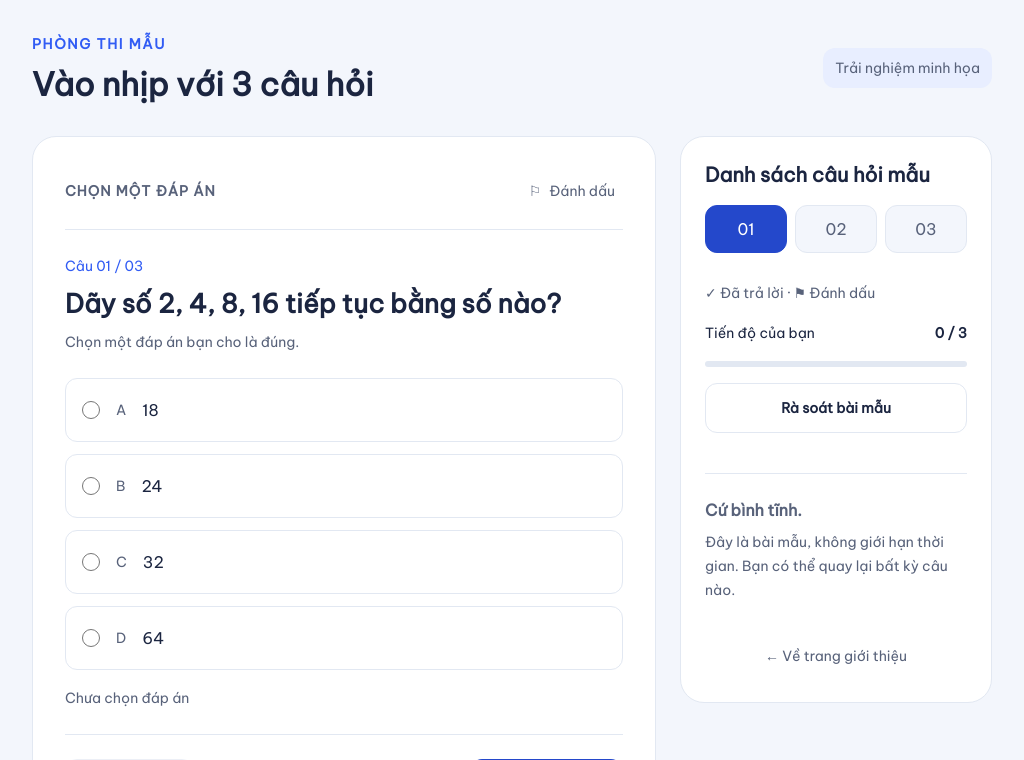
it: opens review from the first question and retains choices, marks and focus on returning
Click the radio button labelled "C 32" at (91, 562), box [82,553,100,571]
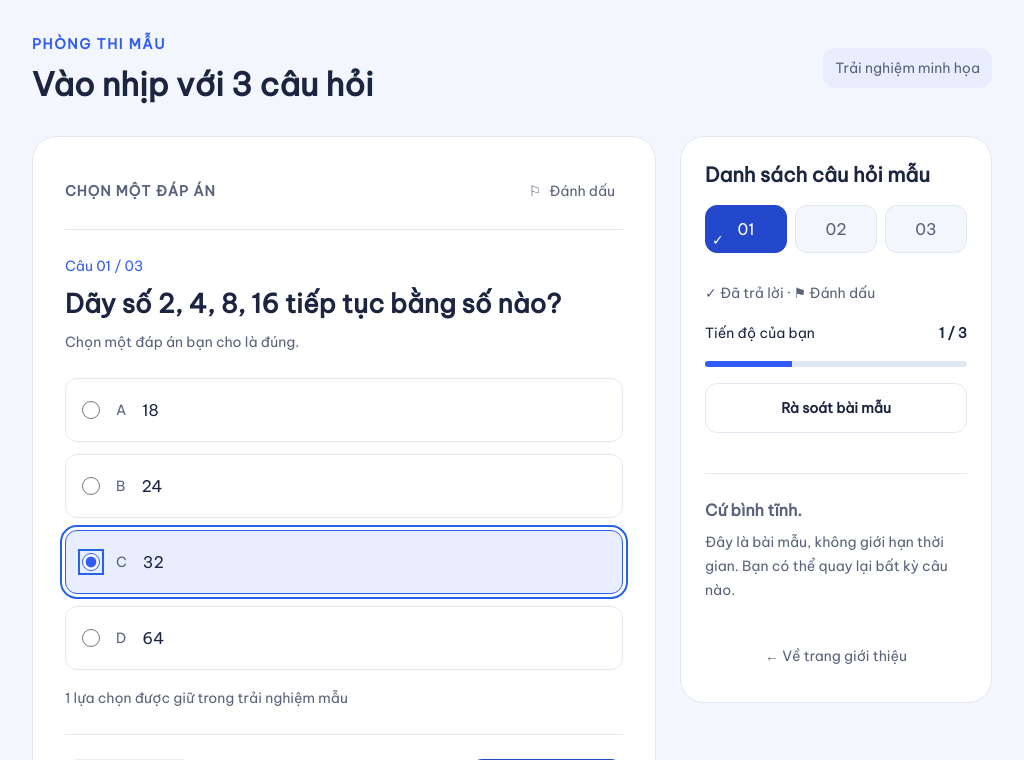
Click the button "⚐ Đánh dấu" at (572, 191), box [521,169,623,213]
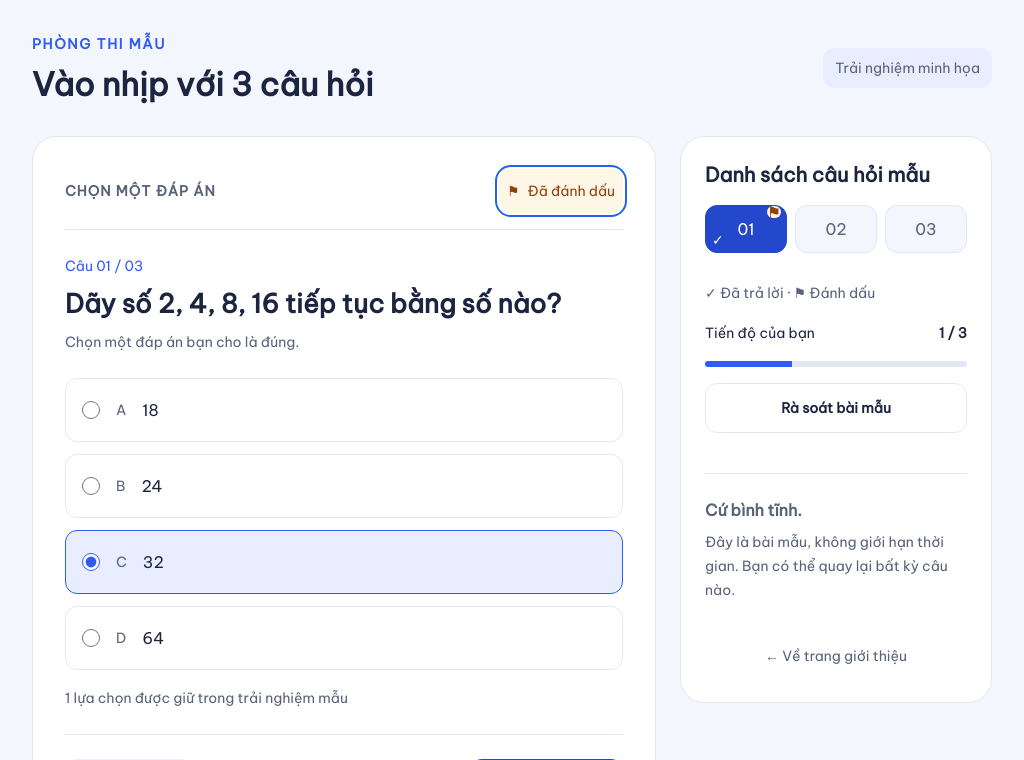
Click the button "Rà soát bài mẫu" at (836, 408), box [705,383,967,433]
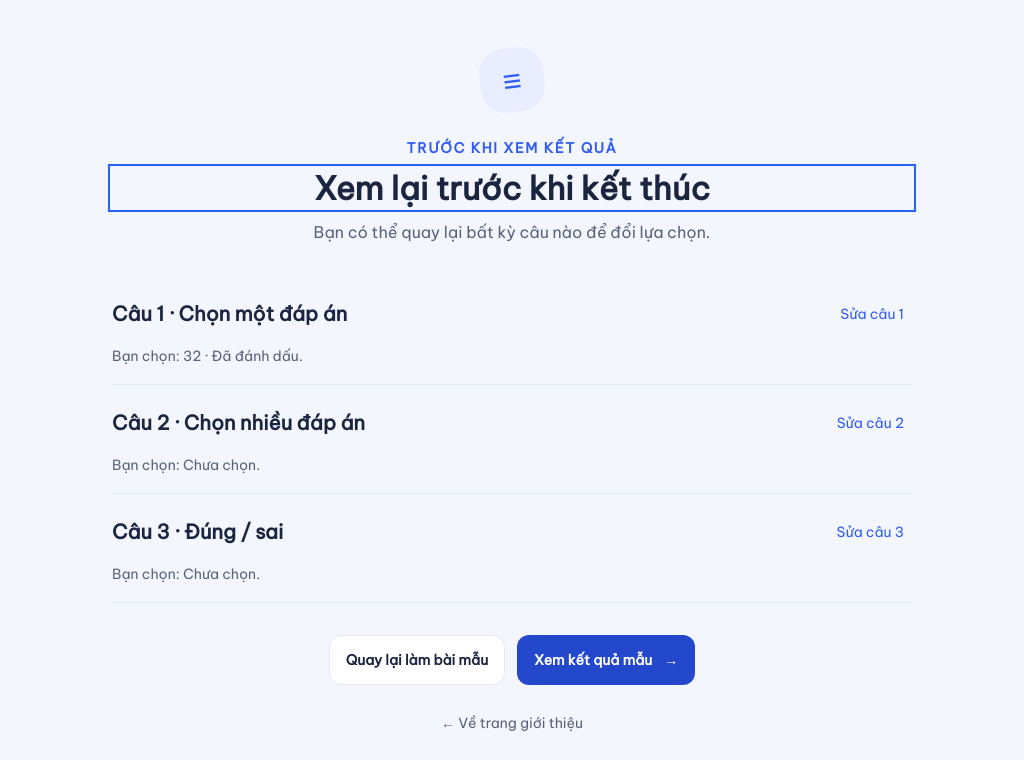
Click the button "Sửa câu 1" at (872, 314), box [832,292,912,336]
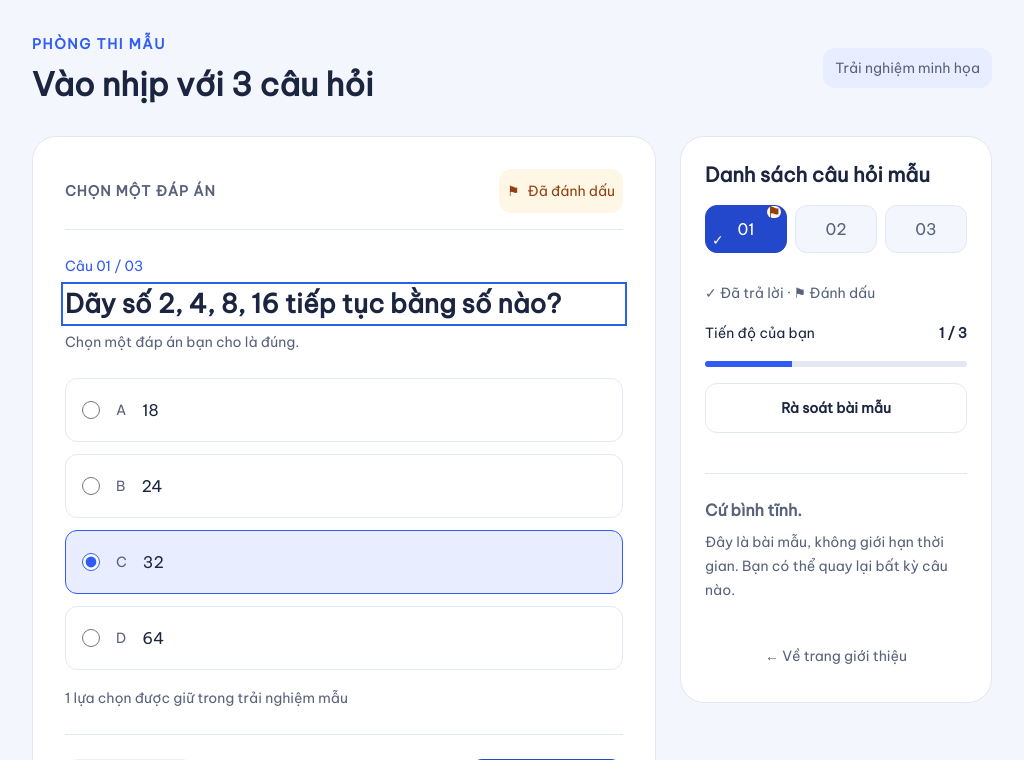
Result: the radio button labelled "C 32" is checked at [82,553,100,571]
